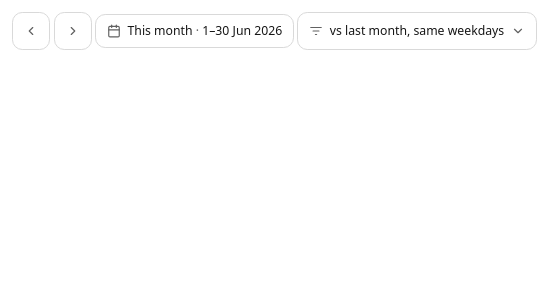
TimeframePickerComponent › comparison basis dropdown › leaves the date-range overlay untouched — separate panelClass, separate control
The image size is (554, 282).
Click the button "vs last month, same weekdays": (417, 31) top-left (297, 12), bottom-right (537, 50)
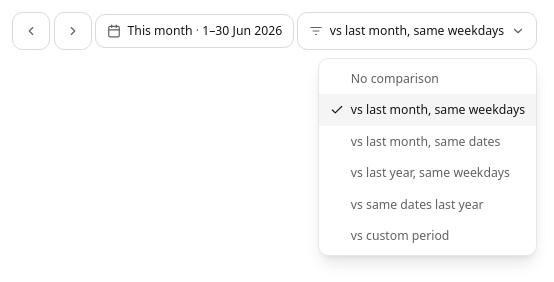
Expected: the element with class "dn-comparison-overlay-panel" is shown, top-left (318, 58), bottom-right (537, 256)
